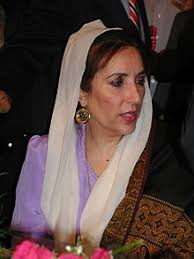middle_eastern_Female: (81, 49, 151, 137)
